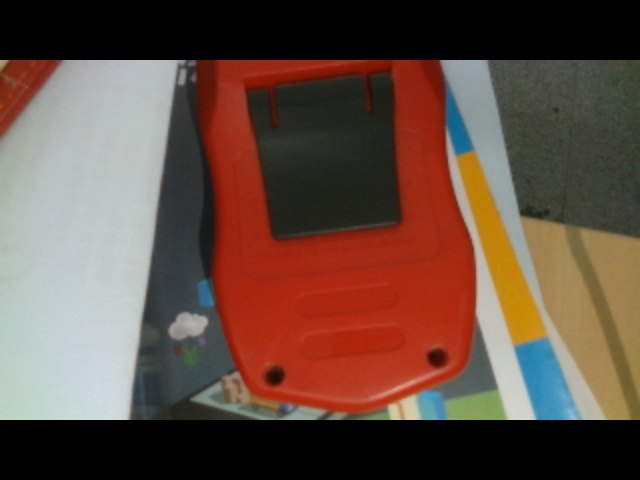Screw holes: (260, 361, 290, 389), (424, 347, 452, 370)
